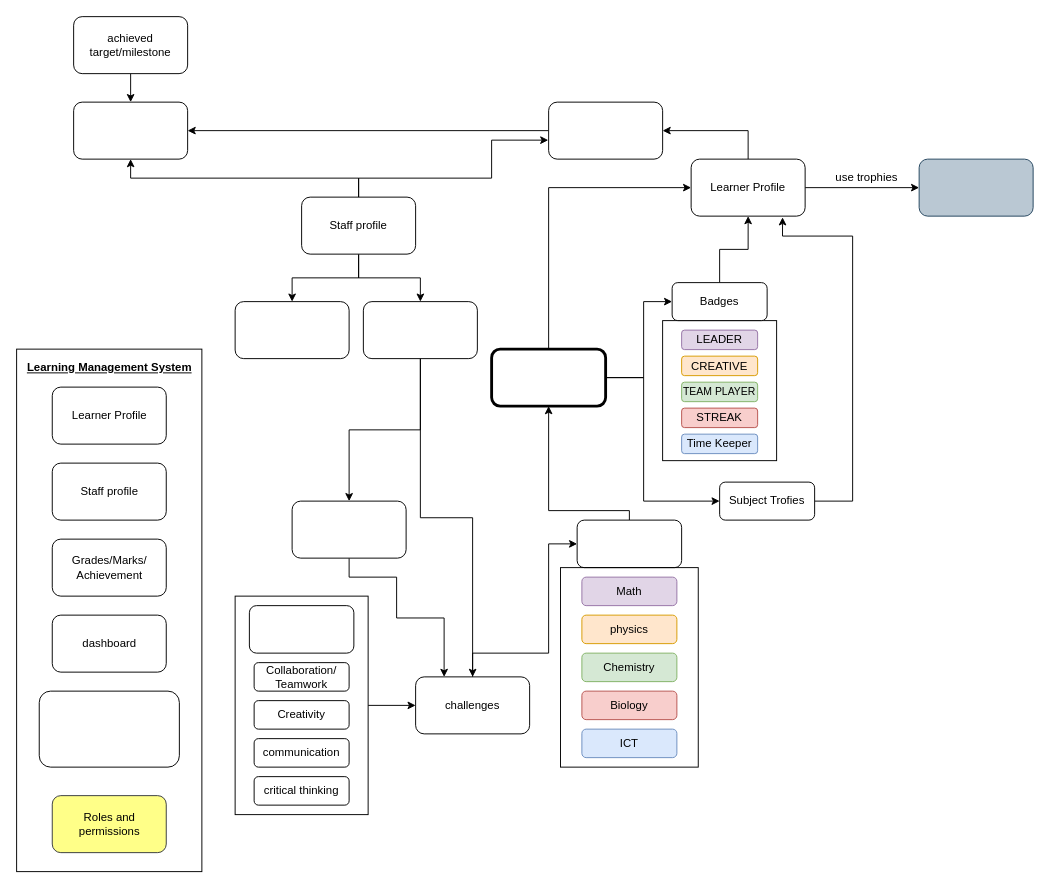
The diagram is 1050 pixels wide and 888 high, and some of its shapes have lost their labels. Here are the shapes that lost their labels. From the top down, the centre of each, then its label:
the point at 130,130: Dash Board
the point at 605,130: inventory system
the point at 975,187: Character outfit
the point at 291,330: Management
the point at 419,330: Teachers
the point at 548,377: Marks
the point at 348,529: Target/ milestone
the point at 629,543: Subjects
the point at 301,629: skill
the point at 108,728: Educational Staff portal (Assign tasks/milestones/Message students)
